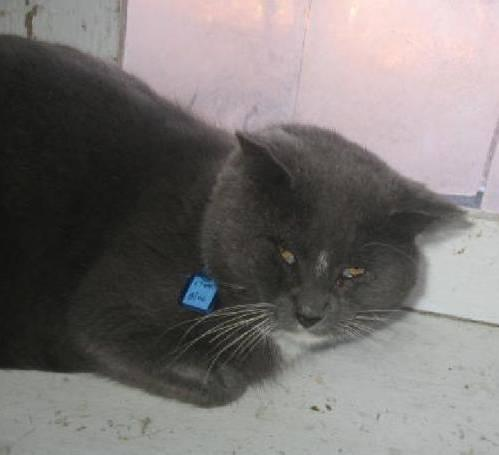cat: (0, 34, 464, 405)
